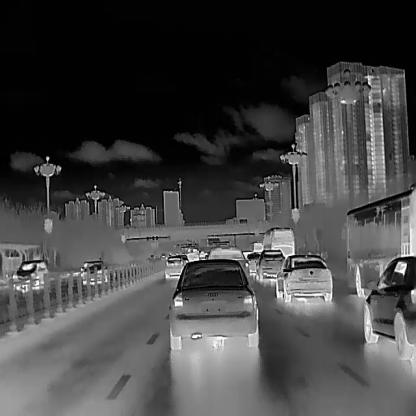bus: (340, 182, 416, 296), (260, 225, 294, 261)
car: (167, 256, 258, 350), (362, 254, 415, 360), (274, 252, 332, 301), (208, 245, 250, 285), (11, 258, 48, 292), (254, 248, 286, 281), (79, 258, 109, 284), (164, 254, 186, 278), (247, 253, 260, 271)
